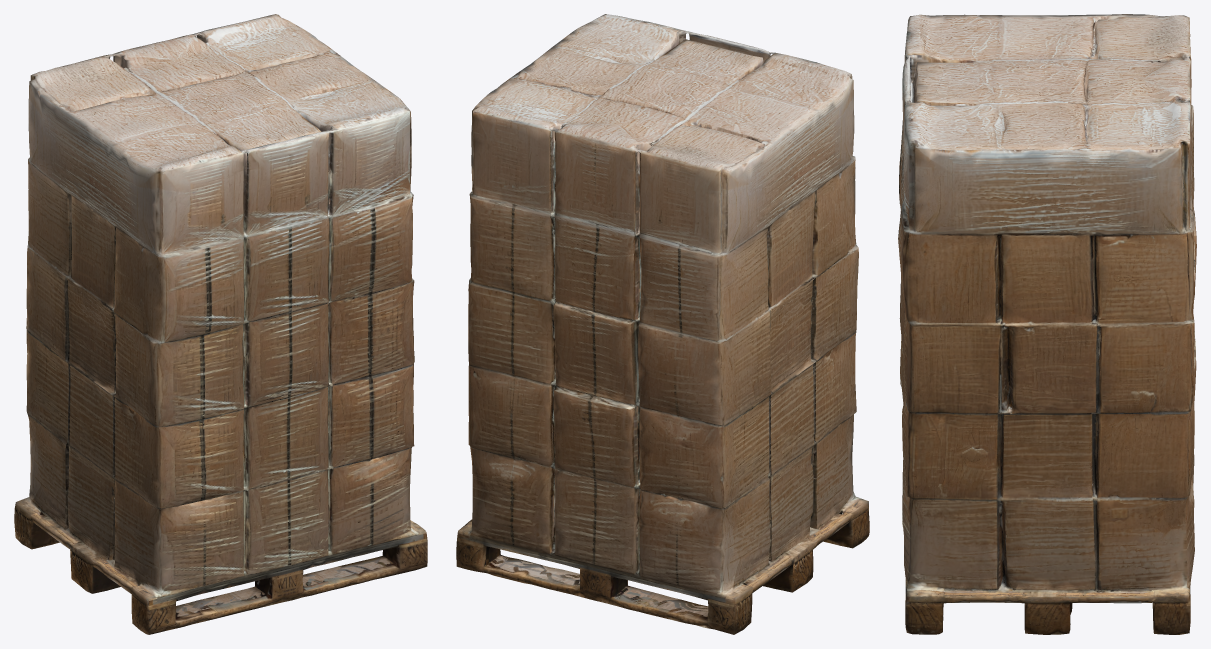
The model's file is PalletBoxes.glb.
The picture shows the model from 3 angles, left to right: view 1: azimuth 30°, elevation 25°; view 2: azimuth 150°, elevation 25°; view 3: azimuth 270°, elevation 25°; orthographic projection. The views are drawn at different scales.
Visible parts, largest first — view 1: texture_mapping; view 2: texture_mapping; view 3: texture_mapping.
Part boxes in pixels (x1=…): texture_mapping: x1=14, y1=14, x2=427, y2=634; texture_mapping: x1=456, y1=14, x2=869, y2=634; texture_mapping: x1=898, y1=14, x2=1196, y2=634.
Bounding box in the file's own units: 0.6361 × 1 × 0.5559.
1 material, 1 textured.
